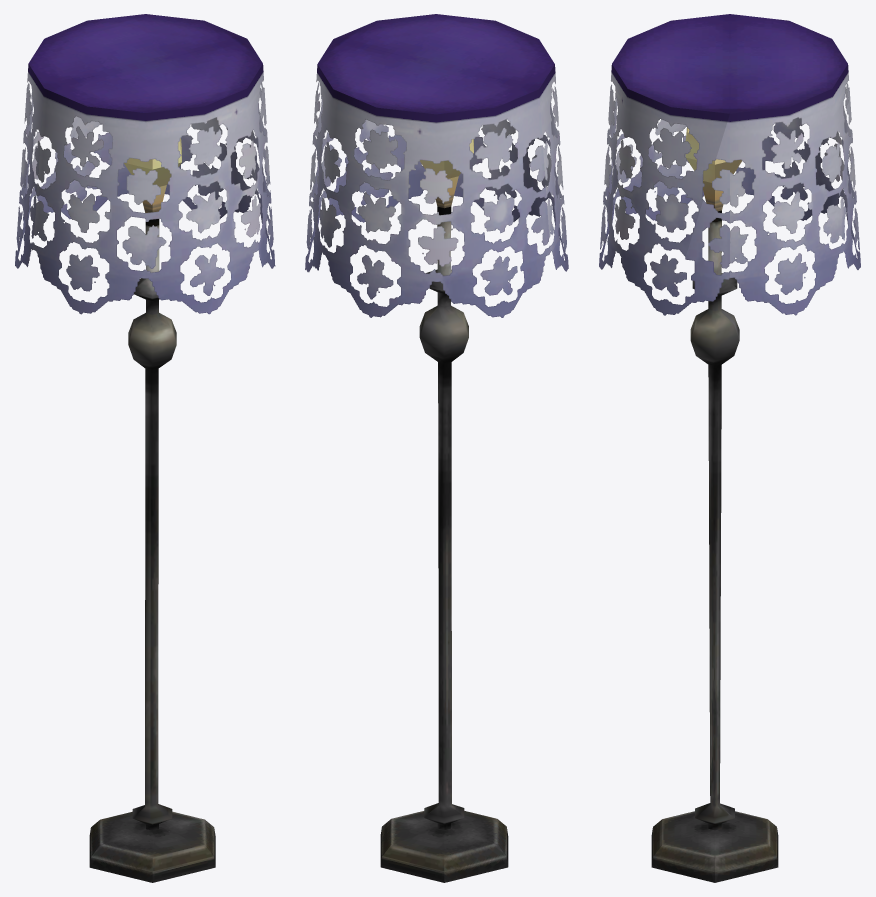
File: furni_0201103.FBX
The picture shows the model from 3 angles, left to right: view 1: azimuth 30°, elevation 25°; view 2: azimuth 150°, elevation 25°; view 3: azimuth 270°, elevation 25°; orthographic projection.
Visible parts, largest first — view 1: furni_0201103; view 2: furni_0201103; view 3: furni_0201103.
Part boxes in pixels (x1,y1,x2,y2): furni_0201103: [15, 14, 275, 882]; furni_0201103: [305, 14, 568, 882]; furni_0201103: [599, 14, 860, 882].
Bounding box in the file's own units: 50 × 165 × 50.
1 material, 1 textured.
